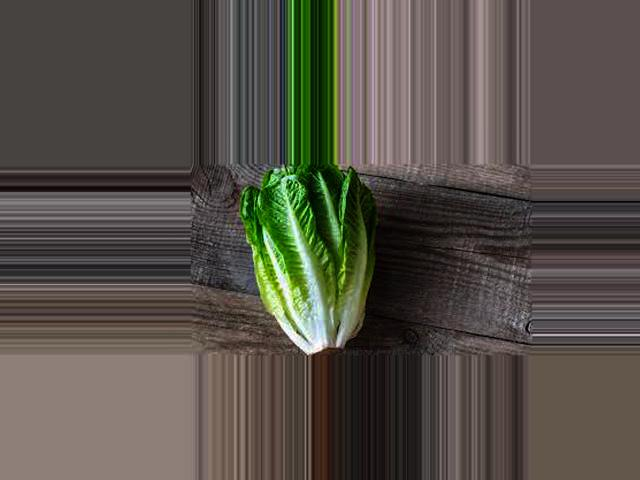lettuce: (250, 175, 384, 345)
